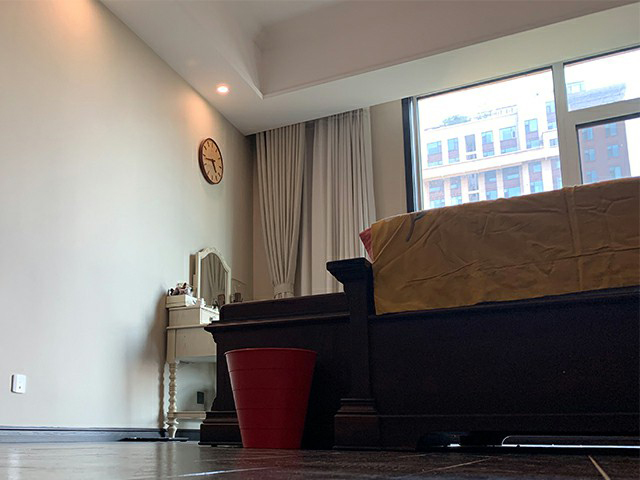bed: (324, 176, 640, 453)
stool: (199, 291, 351, 450)
table: (163, 246, 231, 439)
trashcan: (224, 346, 318, 452)
